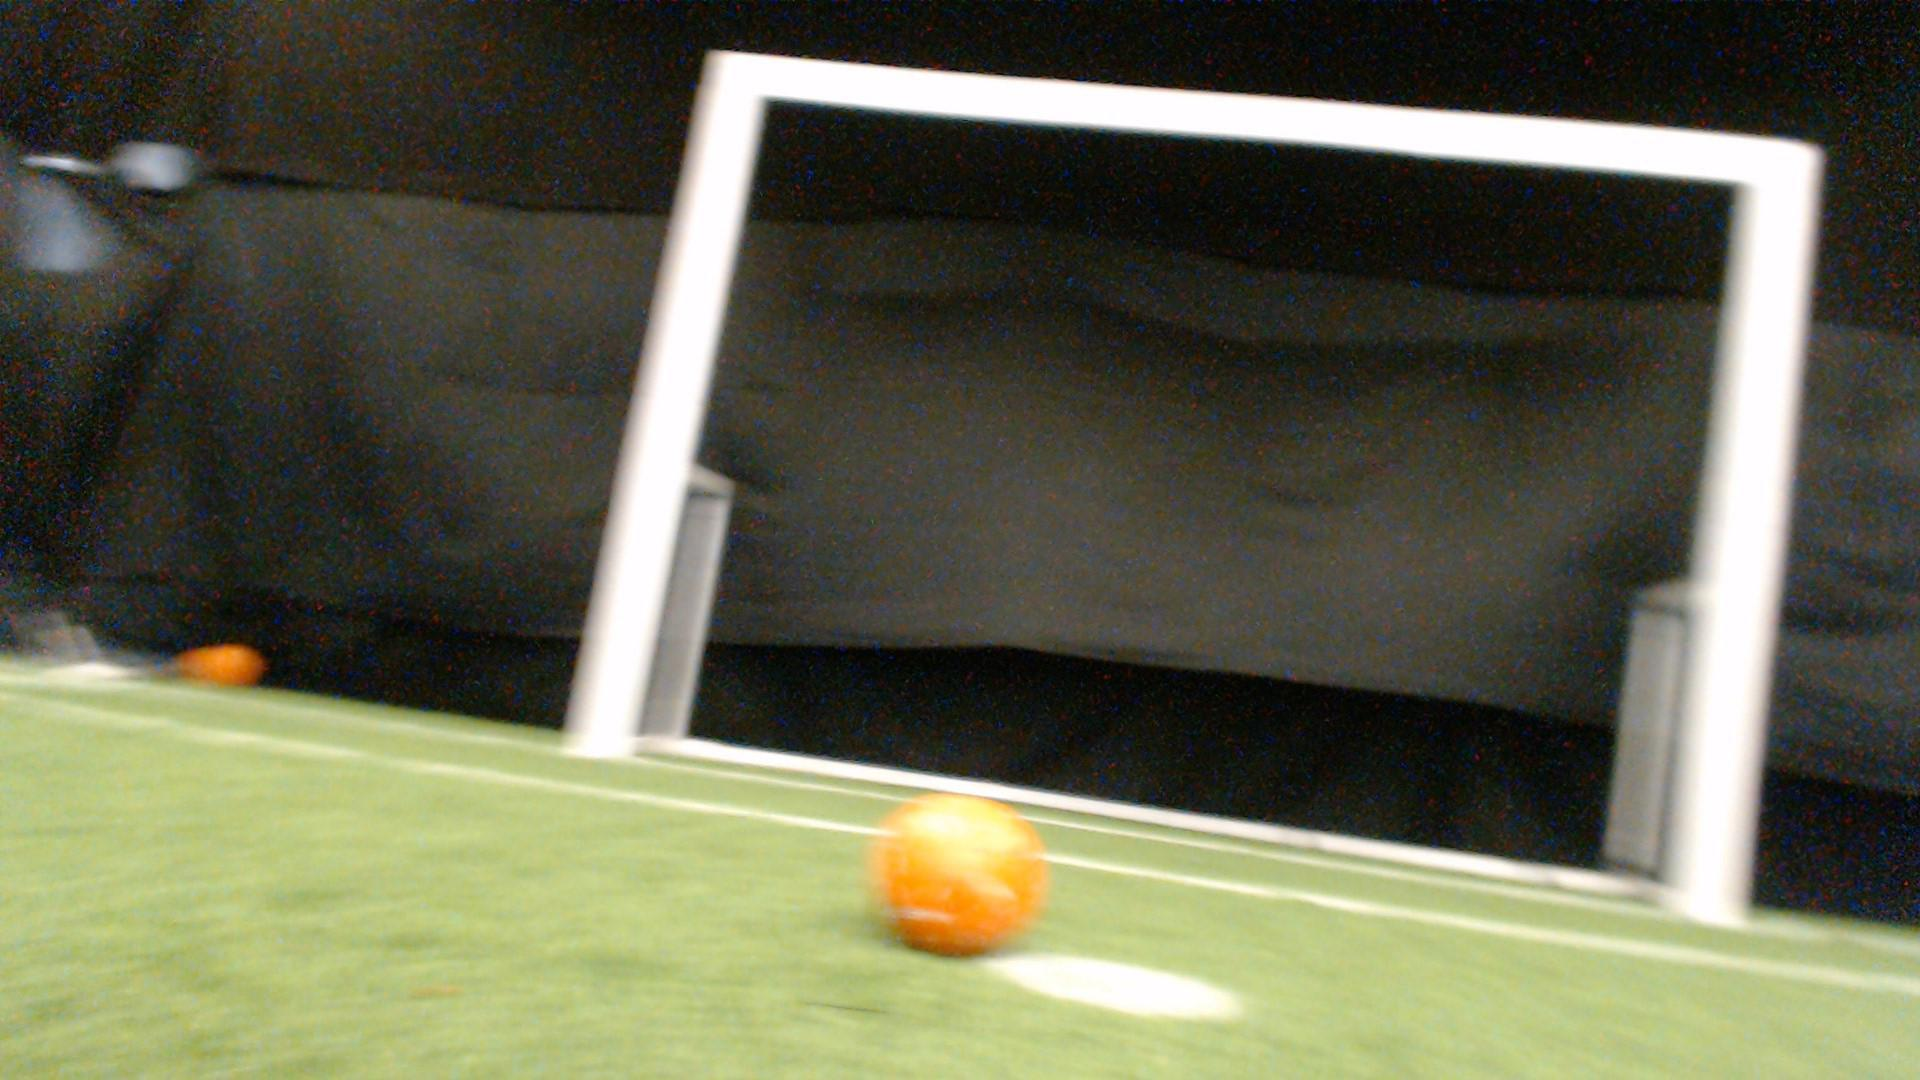bola: (861, 789, 1056, 964), (174, 629, 294, 717)
